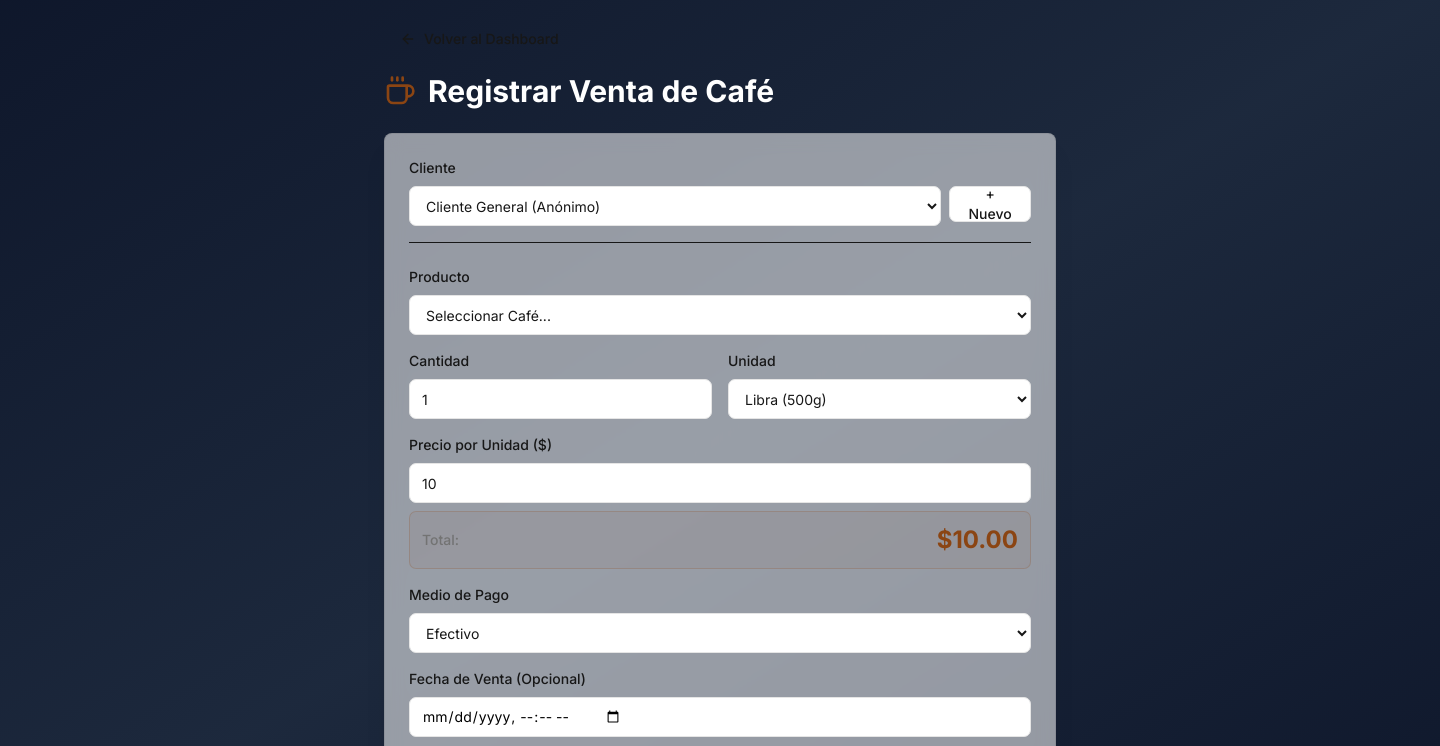
Scenario: NuevaVentaPage › Form Validation › should show error when new customer name is empty
Switch to new customer mode
Click the button "+ Nuevo": (990, 204) [949, 186, 1031, 222]
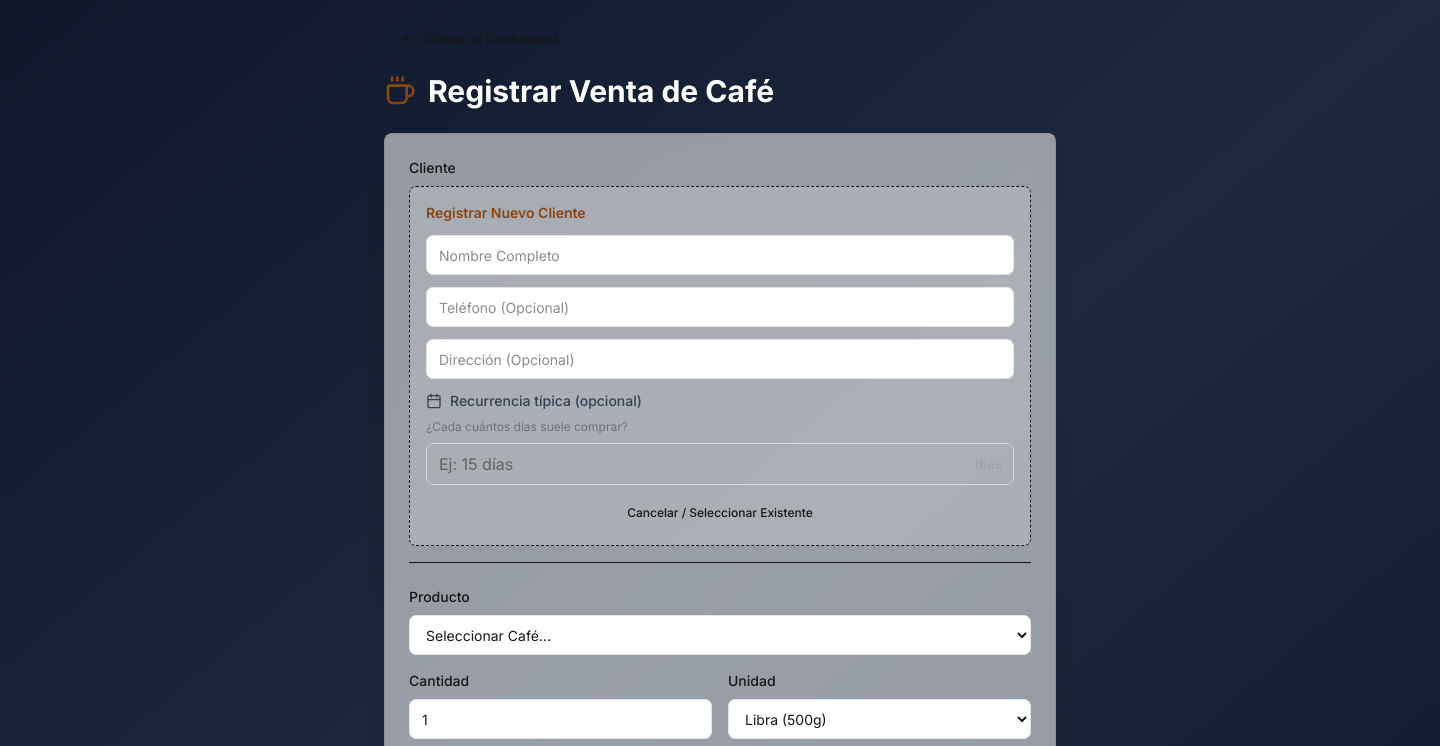
Select product
Select "Cafe Especial" in the dropdown labelled "Producto": (720, 635) [409, 615, 1031, 655]
(page scrolled)
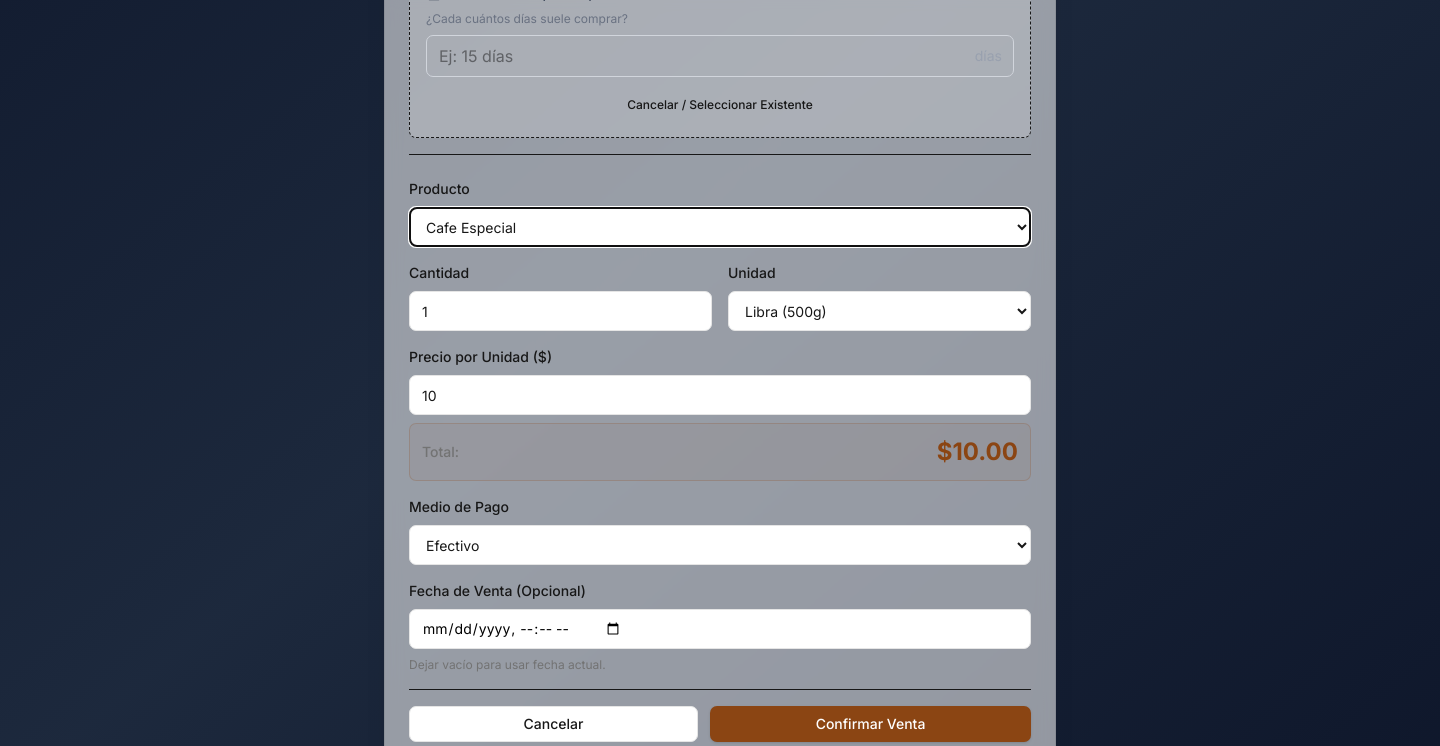
Try to submit without customer name
Click the button "Confirmar Venta": (870, 724) [710, 706, 1031, 742]
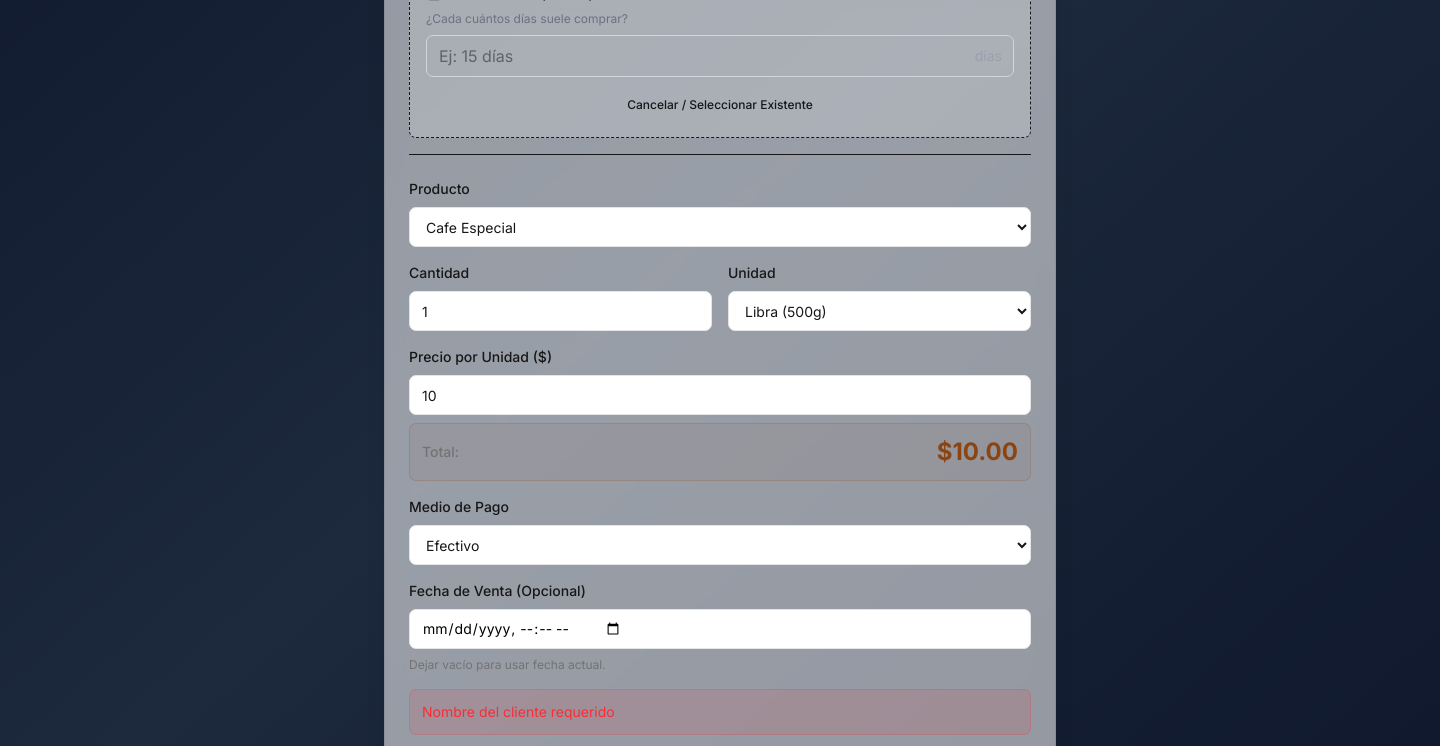
Result: the text "Nombre del cliente requerido" is shown at [409, 689, 1031, 735]
